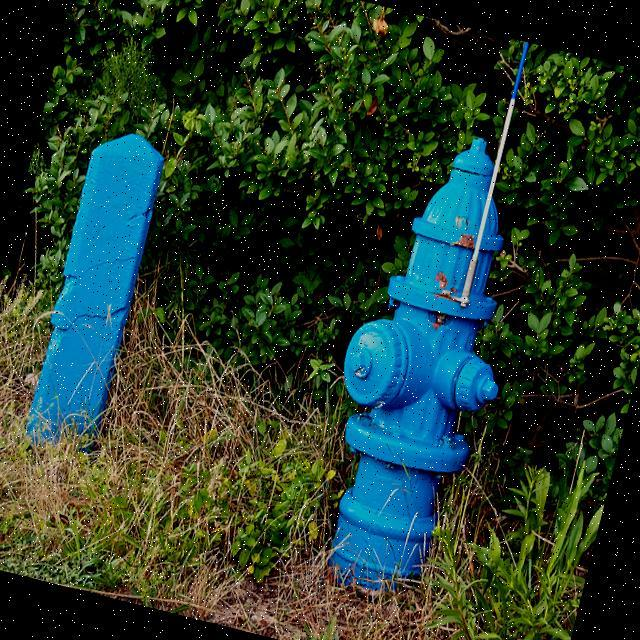fire_hydrant: (289, 116, 556, 602)
